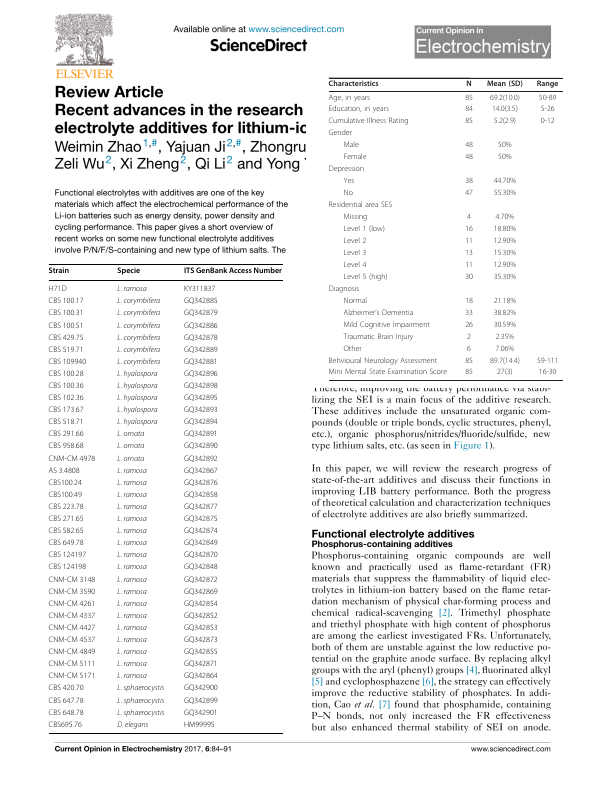borderless: (47, 262, 283, 733), (328, 76, 563, 380)
cell: (328, 368, 448, 378), (328, 356, 438, 366), (183, 266, 283, 276), (342, 320, 431, 330), (328, 117, 410, 127), (342, 308, 414, 318), (342, 332, 414, 342), (328, 105, 390, 115), (328, 201, 393, 210), (116, 683, 165, 693), (328, 80, 379, 89), (116, 296, 161, 306), (116, 308, 161, 318), (116, 696, 165, 705), (116, 708, 165, 717), (48, 635, 96, 644), (48, 647, 96, 656), (48, 659, 96, 668), (328, 93, 371, 103), (342, 273, 389, 282), (116, 381, 158, 391), (116, 393, 158, 403), (116, 405, 158, 415), (116, 417, 158, 427), (116, 321, 161, 330), (116, 333, 161, 342), (116, 345, 161, 354), (116, 357, 161, 366), (342, 225, 386, 234), (48, 454, 96, 462), (48, 575, 96, 583), (48, 587, 96, 595), (48, 599, 96, 607), (48, 611, 96, 619), (48, 623, 96, 631), (48, 672, 96, 680), (116, 369, 158, 378), (486, 80, 524, 89), (328, 165, 365, 174), (48, 381, 84, 390), (183, 381, 219, 390), (48, 393, 84, 402), (183, 393, 219, 402), (48, 405, 84, 414), (183, 405, 219, 414), (48, 514, 84, 523), (183, 514, 219, 523), (48, 526, 84, 535), (183, 526, 219, 535), (48, 538, 84, 547), (183, 538, 219, 547), (183, 635, 219, 644), (183, 647, 219, 656), (183, 659, 219, 668), (116, 284, 148, 294), (116, 502, 148, 512), (116, 514, 148, 524), (116, 526, 148, 536), (116, 538, 148, 548), (116, 550, 148, 560), (116, 562, 148, 572), (116, 623, 148, 633), (116, 635, 148, 645), (116, 647, 148, 657), (116, 659, 148, 669), (116, 671, 148, 681), (489, 93, 521, 103), (489, 356, 521, 366), (48, 357, 87, 365), (48, 551, 87, 559), (48, 563, 87, 571), (183, 284, 216, 293), (116, 720, 149, 729), (47, 297, 84, 305), (47, 309, 84, 317), (47, 321, 84, 329), (116, 429, 145, 439), (183, 297, 219, 305), (183, 309, 219, 317), (183, 321, 219, 329), (48, 333, 84, 341), (183, 333, 219, 341), (48, 345, 84, 353), (183, 345, 219, 353), (183, 357, 219, 365), (48, 369, 84, 377), (183, 369, 219, 377), (48, 418, 84, 426), (183, 418, 219, 426), (48, 430, 84, 438), (183, 430, 219, 438), (48, 442, 84, 450), (183, 442, 219, 450), (183, 454, 219, 462), (116, 466, 148, 475), (183, 466, 219, 474), (116, 478, 148, 487), (183, 478, 219, 486), (116, 490, 148, 499), (183, 490, 219, 498), (48, 502, 84, 510), (183, 502, 219, 510), (183, 551, 219, 559), (183, 563, 219, 571), (116, 575, 148, 584), (183, 575, 219, 583), (116, 587, 148, 596), (183, 587, 219, 595), (116, 599, 148, 608), (183, 599, 219, 607), (116, 611, 148, 620), (183, 611, 219, 619), (183, 623, 219, 631), (183, 672, 219, 680), (48, 684, 84, 692), (183, 684, 219, 692), (48, 696, 84, 704), (183, 696, 219, 704), (48, 708, 84, 716), (183, 708, 219, 716), (328, 285, 360, 294), (48, 478, 83, 486), (48, 490, 83, 498), (48, 720, 83, 728), (491, 105, 519, 115), (48, 466, 81, 474), (183, 720, 216, 728), (116, 442, 145, 451), (116, 454, 145, 463), (342, 296, 368, 306), (116, 266, 141, 276), (328, 129, 353, 139), (493, 117, 517, 127), (493, 296, 517, 306), (493, 308, 517, 318), (493, 320, 517, 330), (342, 213, 368, 222), (47, 266, 70, 276), (536, 356, 559, 366), (342, 153, 367, 162), (342, 237, 367, 246), (342, 249, 367, 258), (342, 261, 367, 270), (493, 177, 517, 186), (493, 189, 517, 198), (493, 225, 517, 234), (493, 237, 517, 246), (493, 249, 517, 258), (493, 261, 517, 270), (493, 273, 517, 282), (494, 332, 515, 342), (342, 344, 363, 354), (494, 344, 515, 354), (536, 80, 559, 89), (538, 93, 557, 103), (538, 368, 557, 378), (47, 284, 68, 293), (494, 213, 515, 222), (342, 141, 360, 151), (496, 368, 514, 378), (540, 105, 555, 115), (540, 117, 555, 127), (497, 141, 512, 151), (497, 153, 512, 162), (342, 177, 355, 186), (342, 189, 354, 198), (464, 93, 474, 103), (464, 105, 474, 115), (464, 117, 474, 127), (464, 141, 474, 151), (464, 296, 474, 306), (464, 308, 474, 318), (464, 320, 474, 330), (464, 356, 474, 366), (464, 368, 474, 378), (464, 153, 474, 162), (464, 177, 474, 186), (464, 189, 474, 198), (464, 225, 474, 234), (464, 237, 474, 246), (464, 249, 474, 258), (464, 261, 474, 270), (464, 273, 474, 282), (465, 80, 473, 89), (466, 332, 472, 342), (466, 344, 472, 354), (466, 213, 472, 222)
